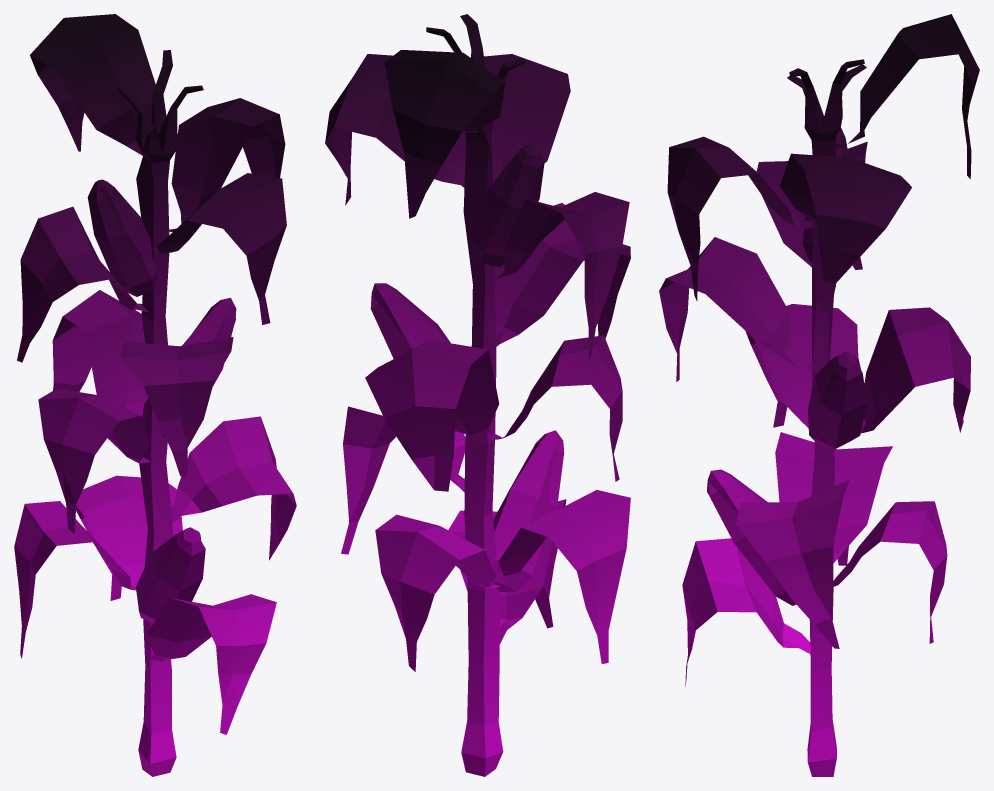
File: SM_Prop_Plant_Corn_01.fbx
3 renders of one model, left to right at view 1: azimuth 30°, elevation 25°; view 2: azimuth 150°, elevation 25°; view 3: azimuth 270°, elevation 25°, orthographic. The views are drawn at different scales.
Parts seen in each view (by area): view 1: SM_Prop_Plant_Corn_01; view 2: SM_Prop_Plant_Corn_01; view 3: SM_Prop_Plant_Corn_01.
Part boxes in pixels (<box>): SM_Prop_Plant_Corn_01: <box>14,14,296,776</box>; SM_Prop_Plant_Corn_01: <box>325,14,630,776</box>; SM_Prop_Plant_Corn_01: <box>659,14,979,776</box>.
Bounding box in the file's own units: 82.06 × 219 × 85.56.
